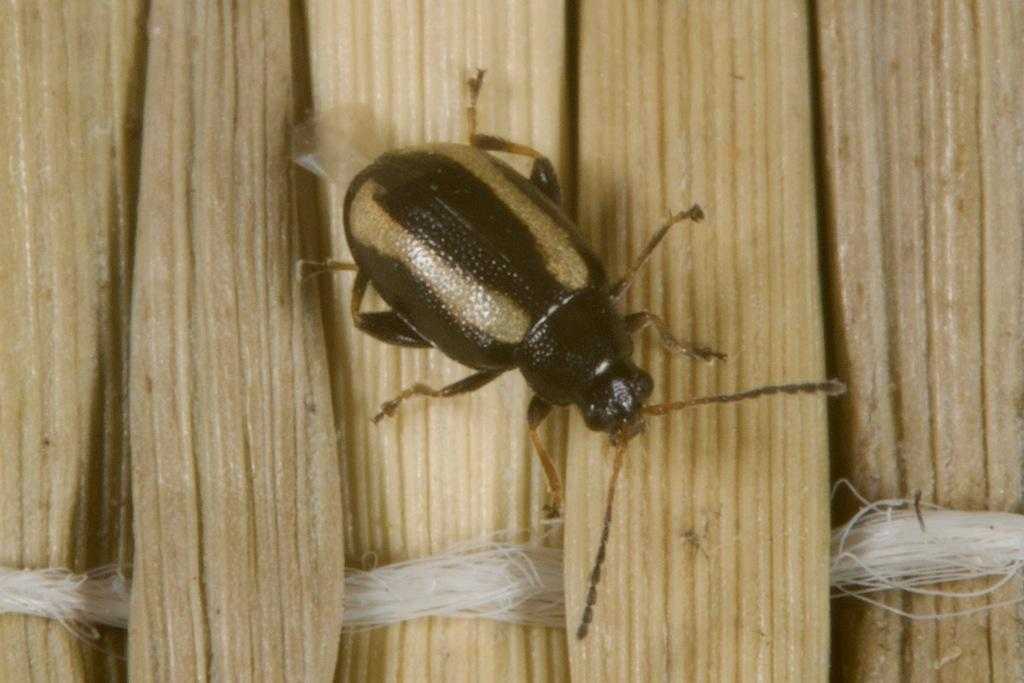flea_beetle: (228, 27, 912, 668)
